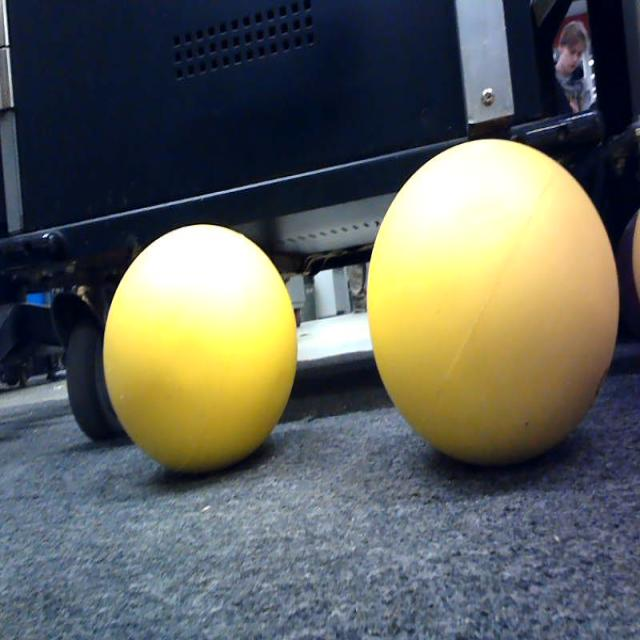Fuel: (366, 138, 620, 469), (102, 224, 298, 477)
